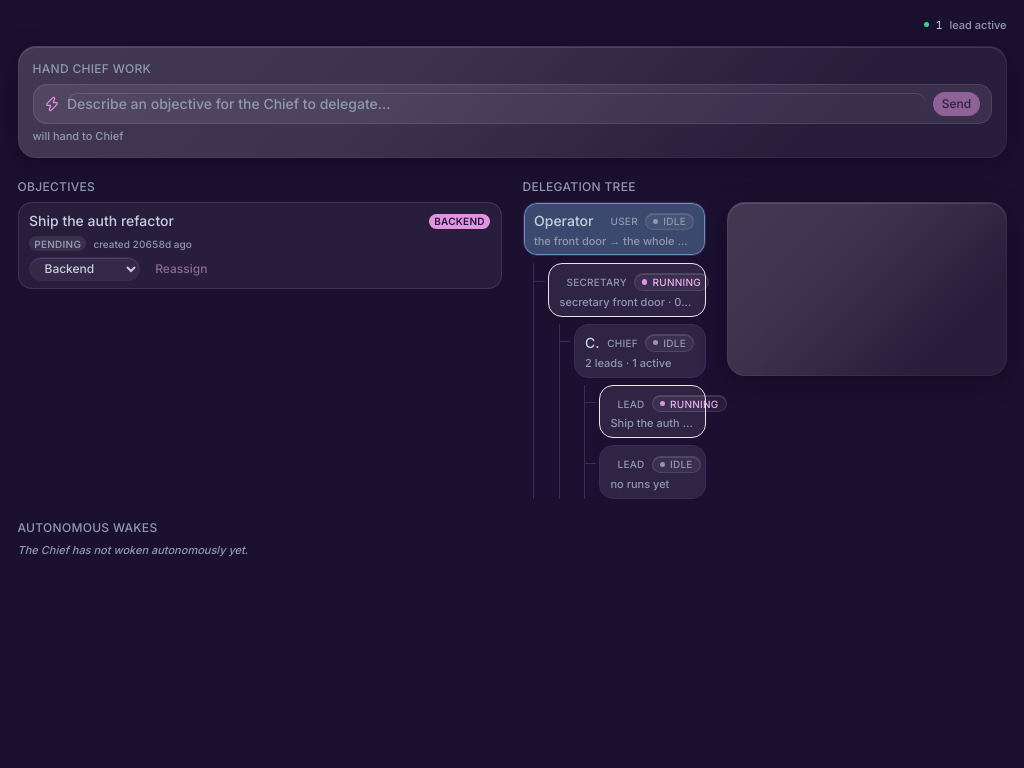
Test case: ChiefPage — reassign flow › confirming the dialog reassigns via the API and refetches the org
Expected: the element with test id "chief-objective-a1" is shown, top-left (18, 202), bottom-right (502, 289)
Expected: the button with test id "chief-reassign-a1" is disabled, top-left (146, 256), bottom-right (216, 281)
Select "Systems" in the dropdown with test id "chief-reassign-select-a1": (84, 269) top-left (29, 256), bottom-right (140, 281)
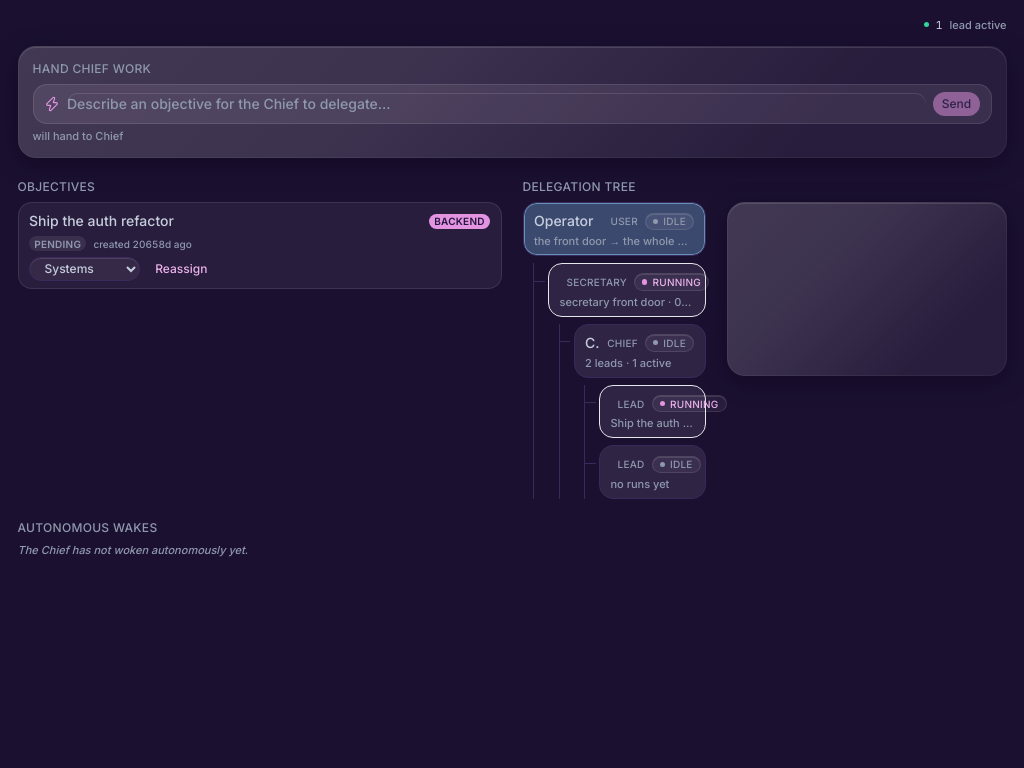
Click the button with test id "chief-reassign-a1": (181, 269) top-left (146, 256), bottom-right (216, 281)
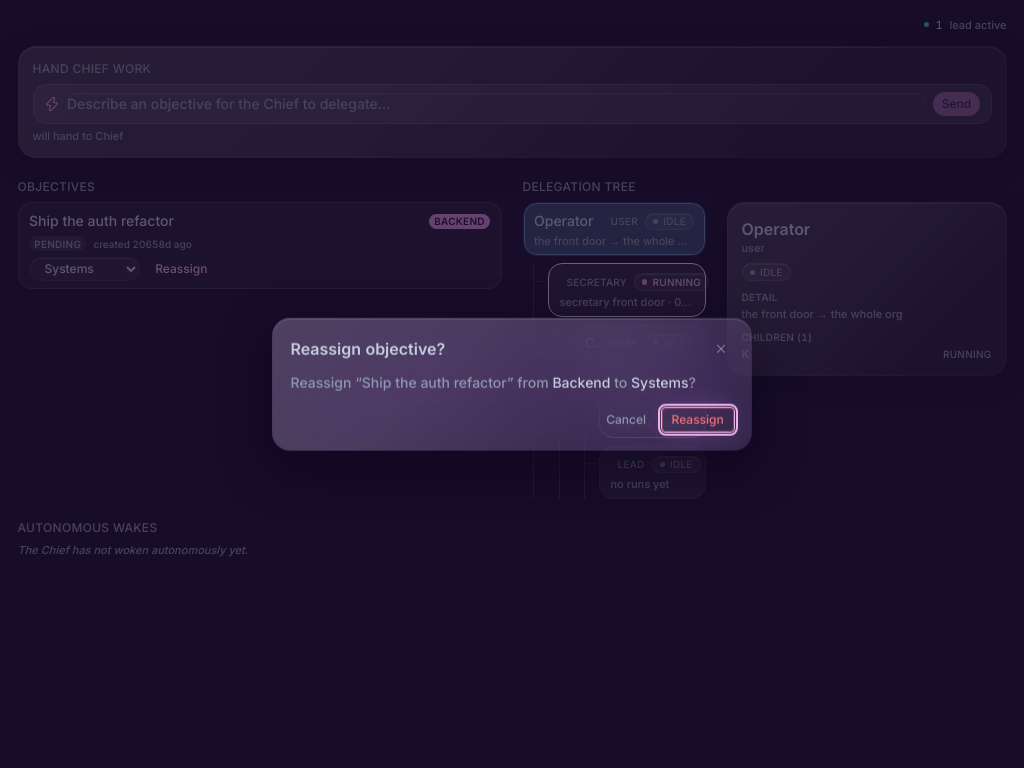
Expected: the element with test id "chief-reassign-dialog" shows "Backend", top-left (552, 373), bottom-right (610, 390)
Expected: the element with test id "chief-reassign-dialog" shows "Systems", top-left (631, 373), bottom-right (688, 390)
Click the button with test id "chief-reassign-dialog-confirm": (698, 420) top-left (662, 407), bottom-right (734, 432)
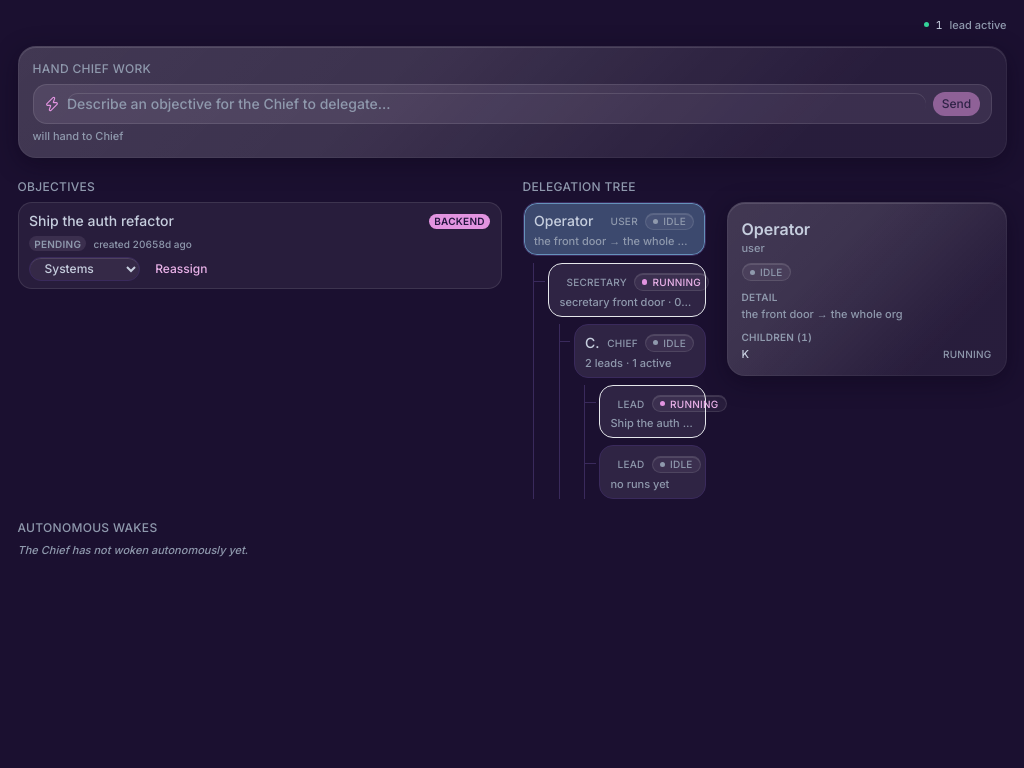
Expected: the element with test id "chief-reassign-dialog" is gone
